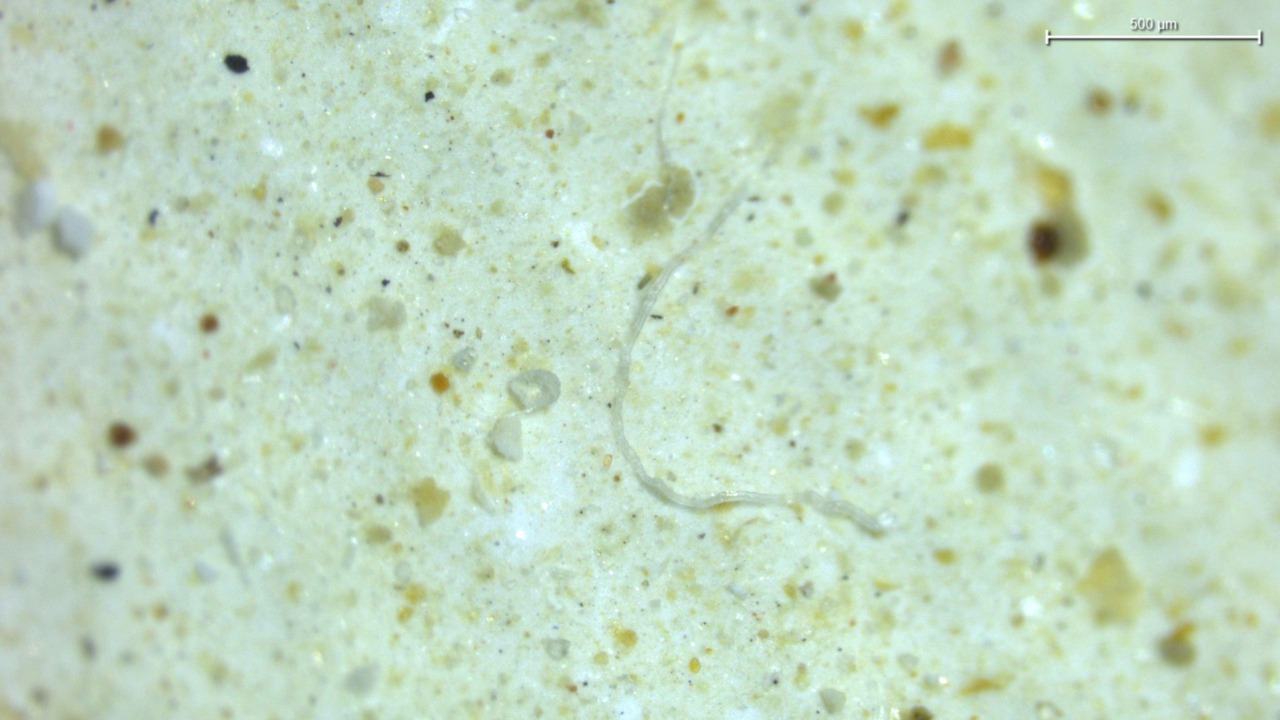microplastic_fragment: (509, 370, 560, 410), (489, 413, 523, 460)
